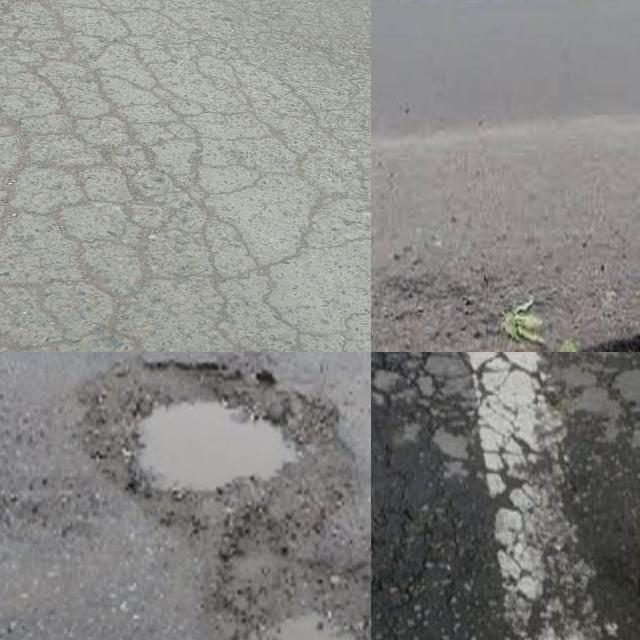Lubang: (96, 362, 350, 514), (199, 566, 371, 640)
Retak Buaya: (0, 0, 256, 352), (371, 352, 573, 528)
